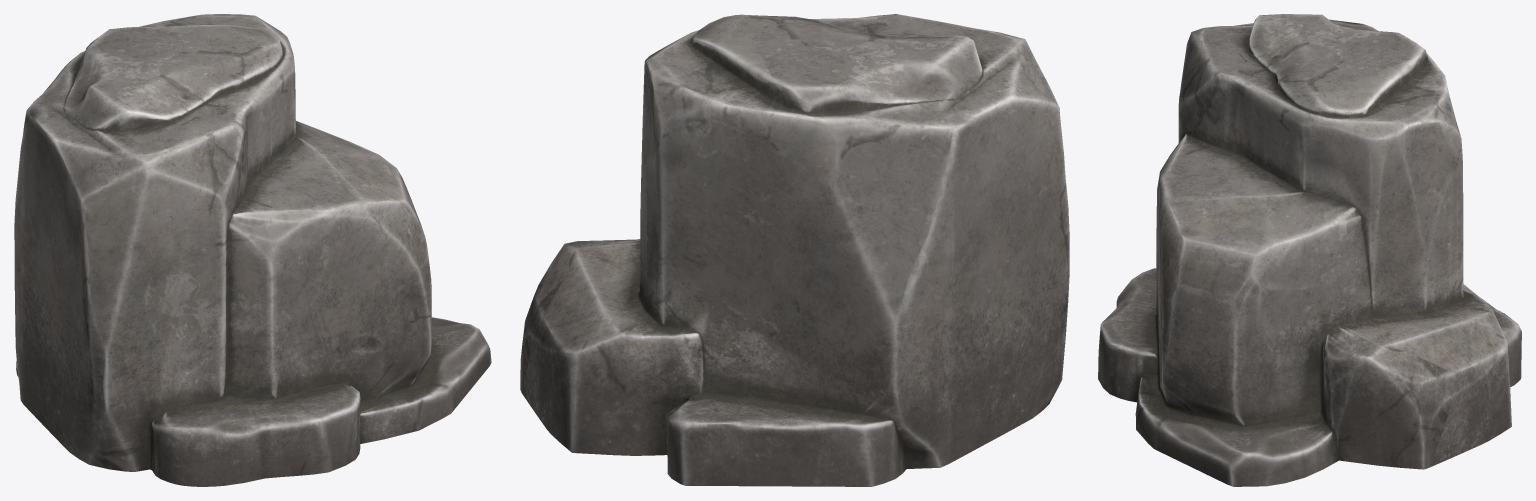
File: Cluster_02.glb
The picture shows the model from 3 angles, left to right: view 1: azimuth 30°, elevation 25°; view 2: azimuth 150°, elevation 25°; view 3: azimuth 270°, elevation 25°; orthographic projection. The views are drawn at different scales.
Parts seen in each view (by area): view 1: Cluster_02_LOD1.001; view 2: Cluster_02_LOD1.001; view 3: Cluster_02_LOD1.001.
Boxes of the visible parts, x1=… form: Cluster_02_LOD1.001: x1=14, y1=14, x2=491, y2=486; Cluster_02_LOD1.001: x1=520, y1=14, x2=1069, y2=486; Cluster_02_LOD1.001: x1=1098, y1=14, x2=1521, y2=486.
Size of the model in its own units: 4.27 by 3.23 by 4.
1 material, 1 textured.
